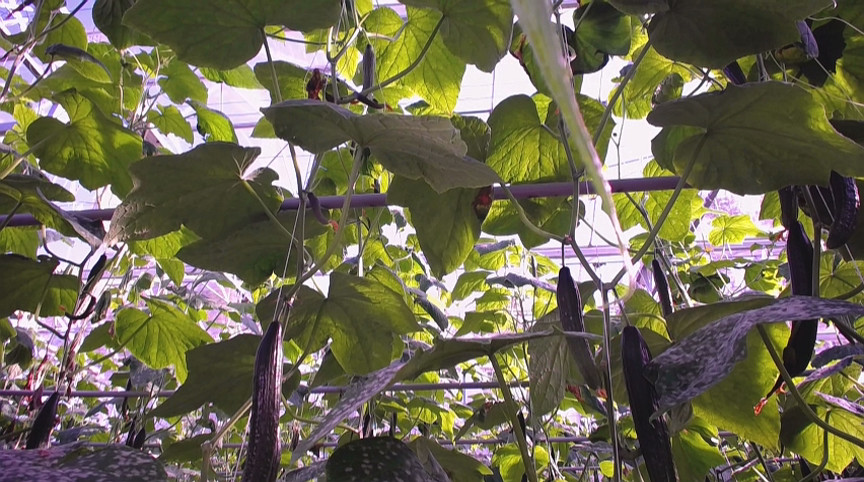cucumber: (620, 326, 674, 481), (245, 322, 283, 481), (556, 268, 604, 389), (785, 220, 818, 375), (826, 175, 861, 250), (27, 392, 61, 448), (650, 260, 675, 316)
